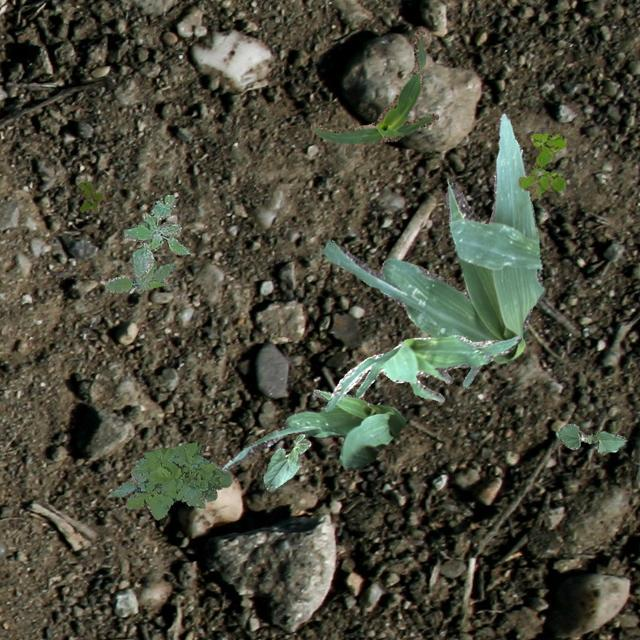crop: (320, 112, 544, 362), (218, 388, 404, 471), (323, 334, 520, 412), (310, 29, 438, 142), (262, 432, 310, 490), (554, 422, 624, 452)
weed: (110, 442, 232, 518), (122, 194, 188, 278), (518, 132, 564, 198), (104, 258, 174, 292), (78, 180, 102, 212)
